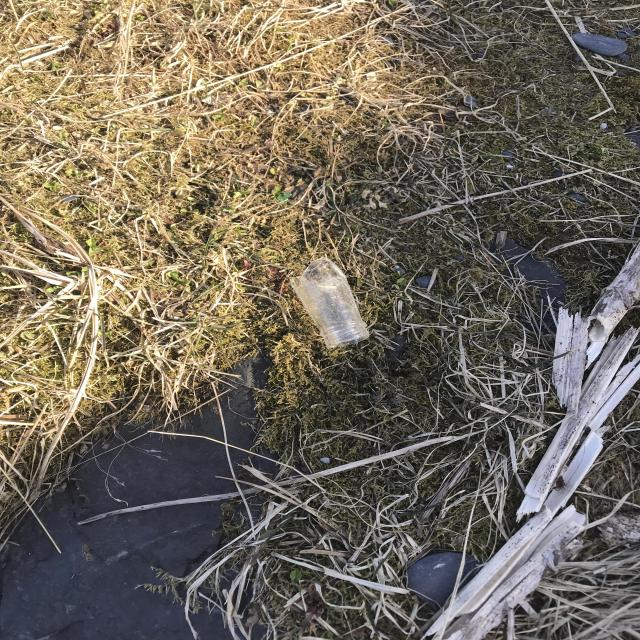litter: (342, 204, 466, 263)
